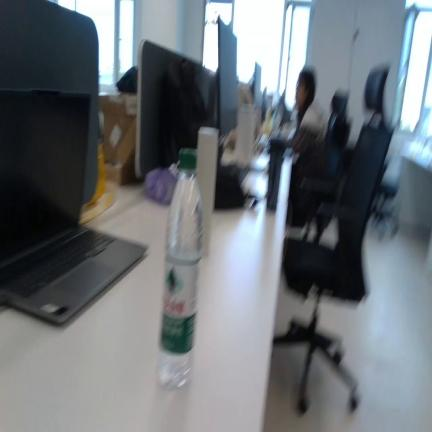bottle: (158, 149, 203, 388)
